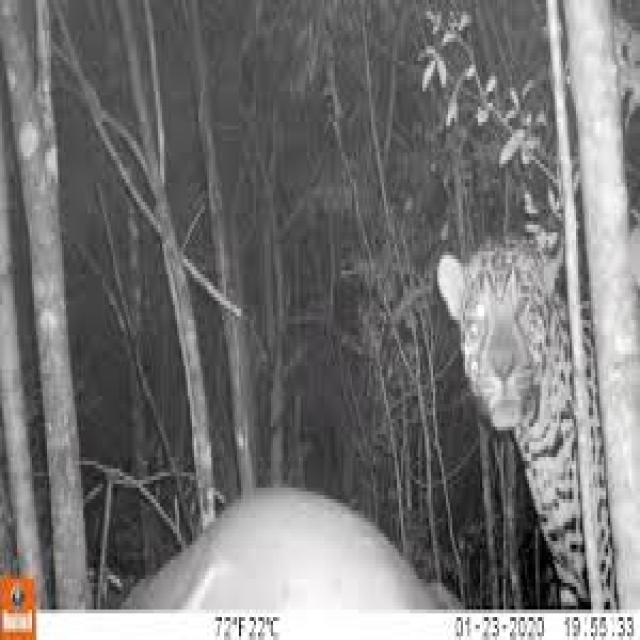Jaguar: (436, 236, 614, 610)
